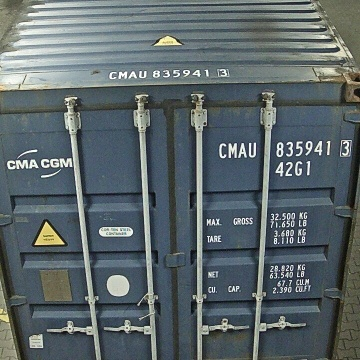serial_id: (219, 140, 351, 158)
